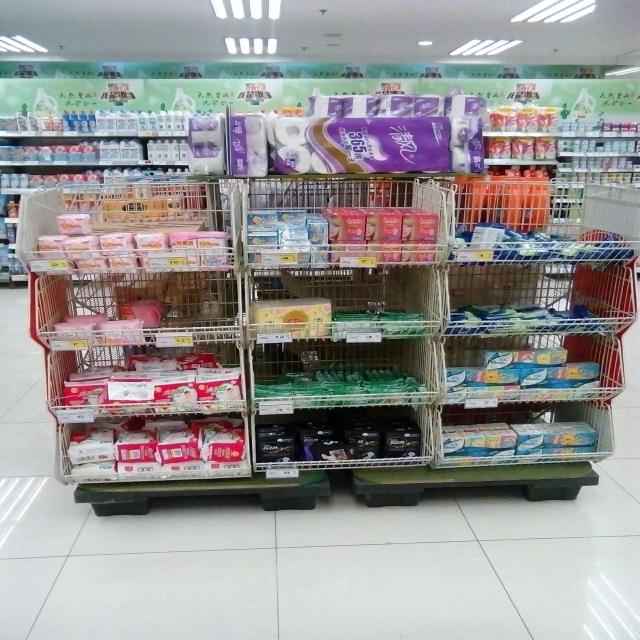empty: (162, 287, 235, 339)
